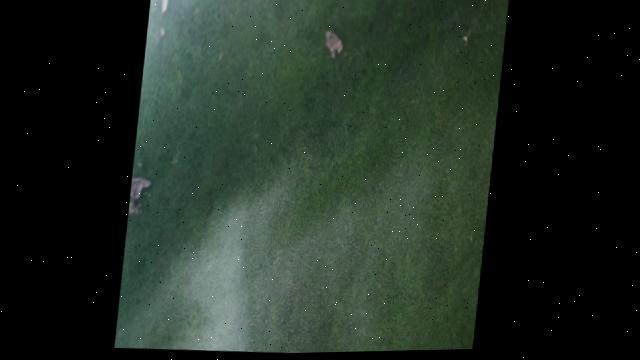stemcanker: (321, 27, 348, 65), (127, 174, 155, 210)
